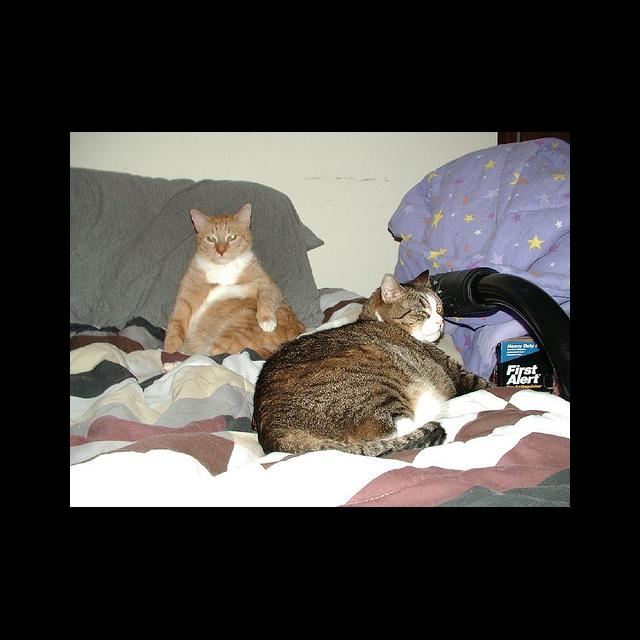animals: (191, 203, 249, 254)
